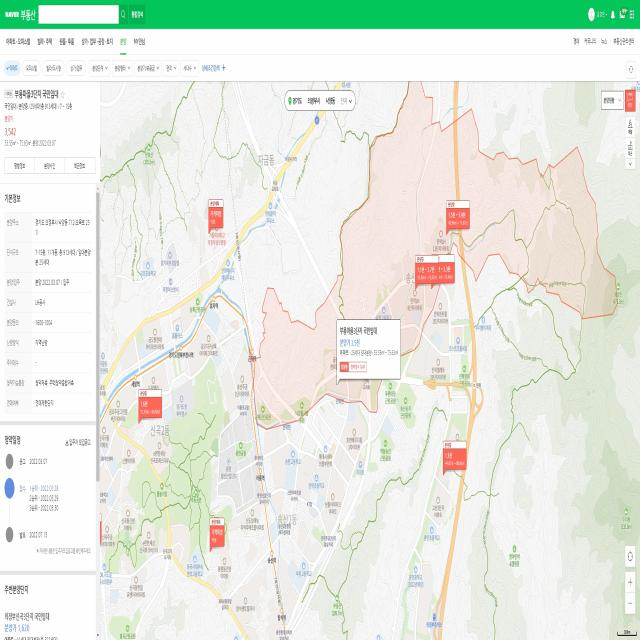menu-bar: (587, 5, 636, 22)
search: (1, 84, 95, 640), (36, 4, 128, 25)
tab-bar: (4, 33, 150, 51)
